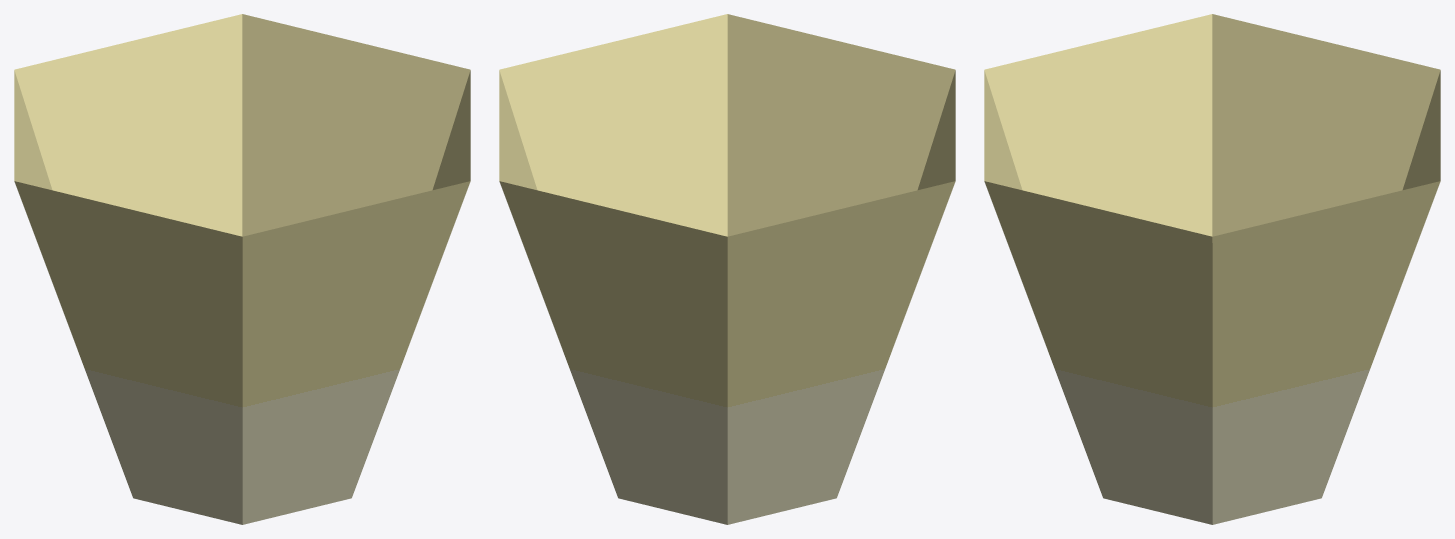
Rendered from LightYellow_01.fbx.
3 renders of one model, left to right at view 1: azimuth 30°, elevation 25°; view 2: azimuth 150°, elevation 25°; view 3: azimuth 270°, elevation 25°, orthographic.
Parts seen in each view (by area): view 1: LightYellow_01; view 2: LightYellow_01; view 3: LightYellow_01.
Part boxes in pixels (left/top/right/bottom): LightYellow_01: left=14, top=14, right=470, bottom=524; LightYellow_01: left=499, top=14, right=955, bottom=524; LightYellow_01: left=984, top=14, right=1440, bottom=524.
Size of the model in its own units: 339 by 246 by 294.
1 material, 1 textured.
